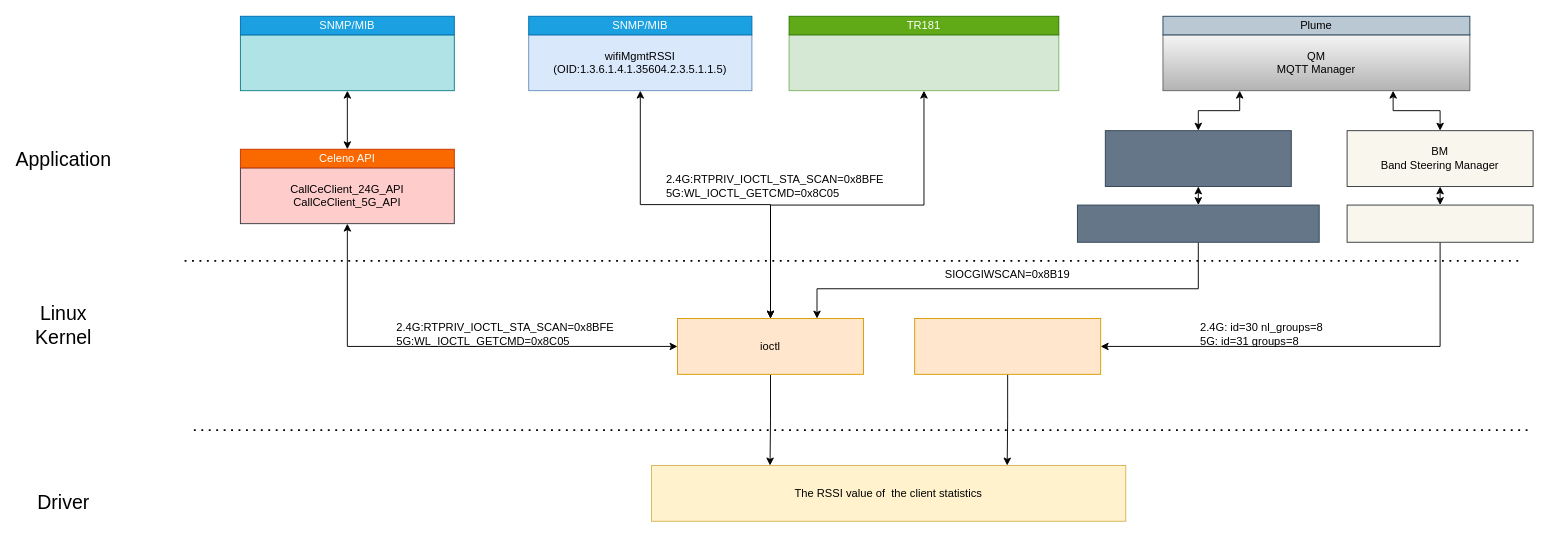
This 1551x538 diagram has some shape labels left out. Each missing label, with the box of its shape:
Device.WiFi.AccessPoint.[i].AssociatedDevice.[i].SignalStrength: (788, 34, 1059, 91)
Sendmsg: (914, 318, 1101, 374)
SM Statistic Manager: (1104, 130, 1291, 186)
wifi_getApAssociatedDeviceDiagnosticResult2: (1076, 204, 1319, 242)
wifi_steering_eventRegister: (1346, 204, 1533, 242)
wifiMgmtClientStatsRSSI (OID:1.3.6.1.4.1.35604.2.3.13.1.1.5): (239, 34, 454, 91)
